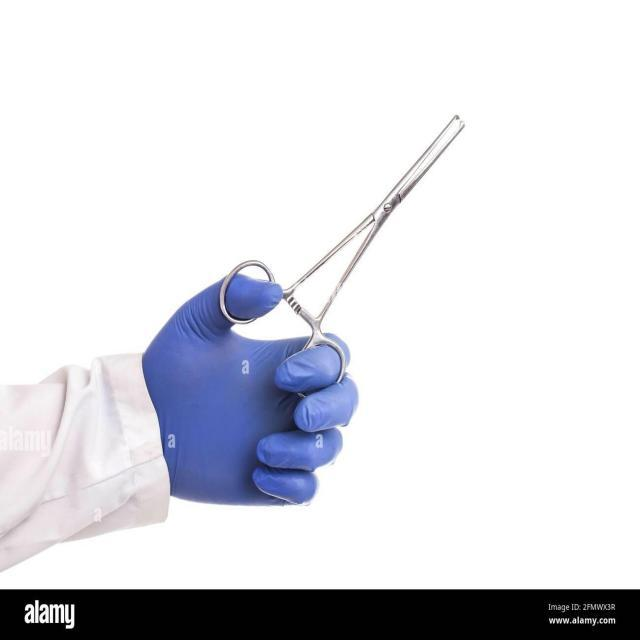scissors: (219, 112, 467, 401)
